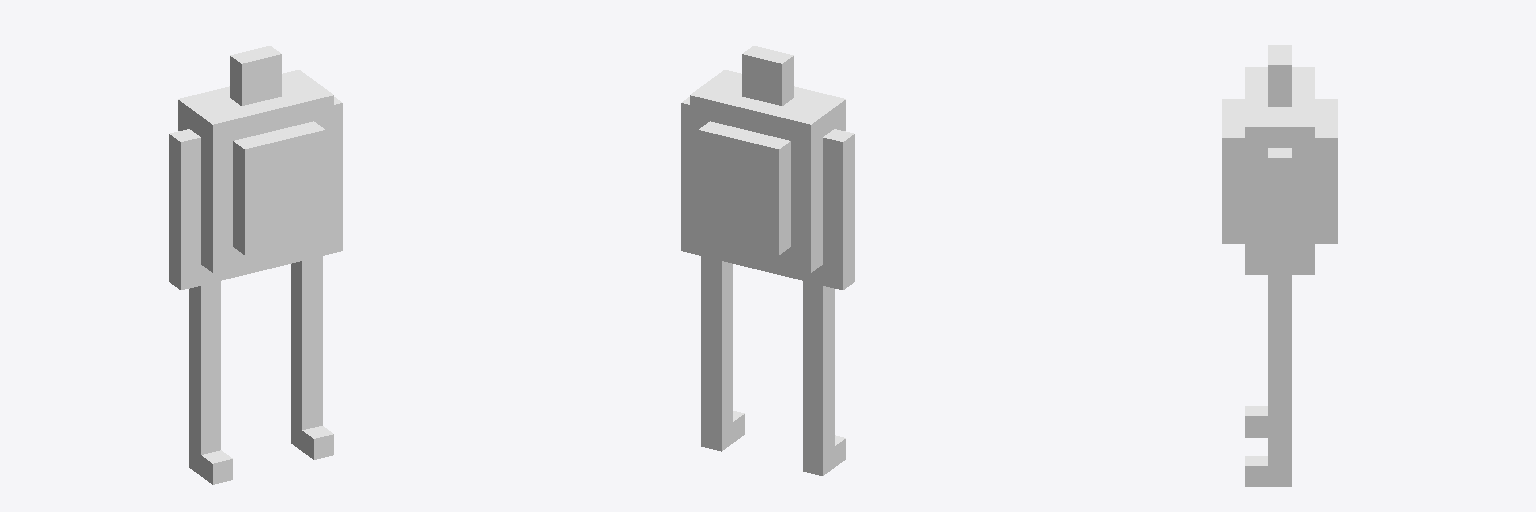
The model's file is person1.obj.
3 renders of one model, left to right at view 1: azimuth 30°, elevation 25°; view 2: azimuth 150°, elevation 25°; view 3: azimuth 270°, elevation 25°, orthographic.
Parts seen in each view (by area): view 1: person1; view 2: person1; view 3: person1.
Boxes of the visible parts, x1=… form: person1: x1=169, y1=46, x2=342, y2=484; person1: x1=681, y1=46, x2=854, y2=475; person1: x1=1222, y1=45, x2=1337, y2=486.
Bounding box in the file's own units: 8 × 19 × 5.